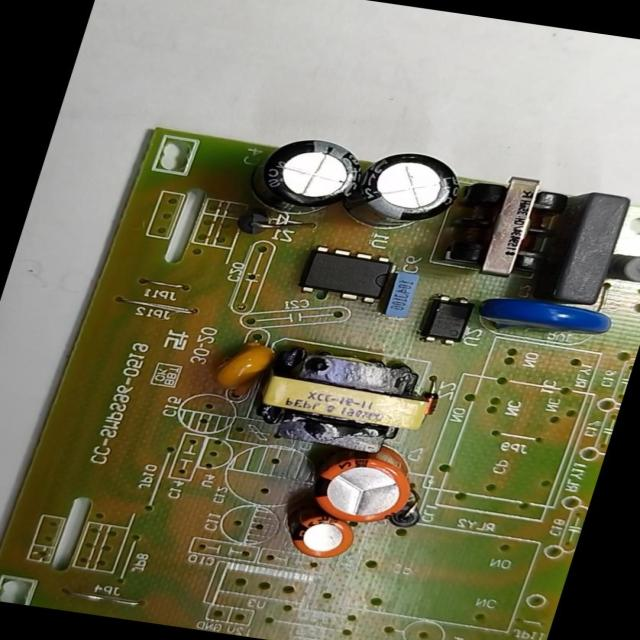Cap1: (288, 436, 432, 532)
Cap2: (275, 504, 376, 567)
Cap3: (328, 142, 478, 242)
Cap4: (243, 128, 375, 227)
MOSFET: (285, 241, 410, 310)
Mov: (456, 284, 622, 348)
Resistor: (598, 242, 639, 292)
Transformer: (224, 338, 447, 458), (423, 166, 585, 284)
